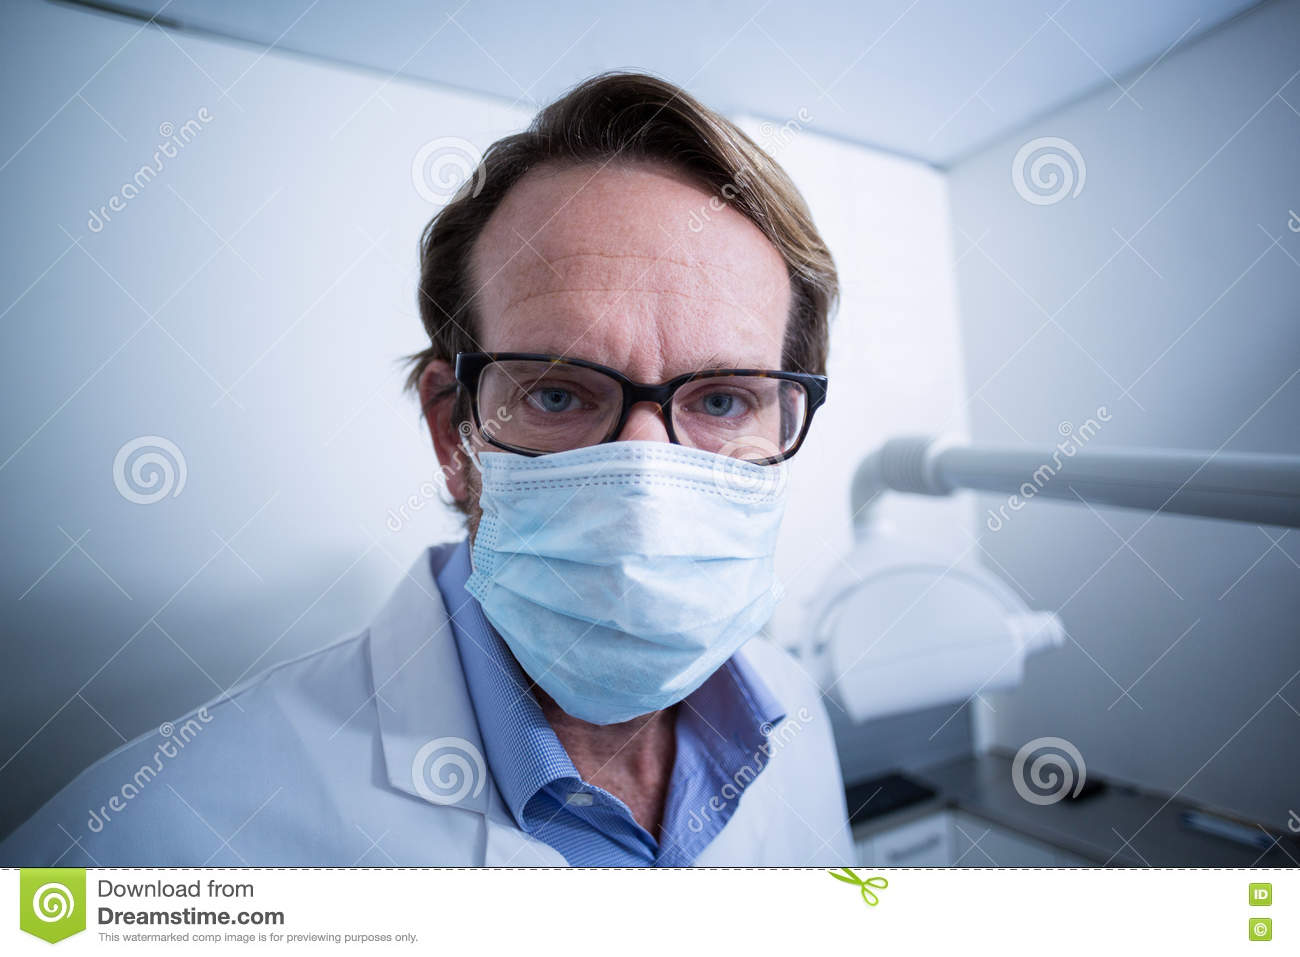mask: (460, 455, 782, 713)
